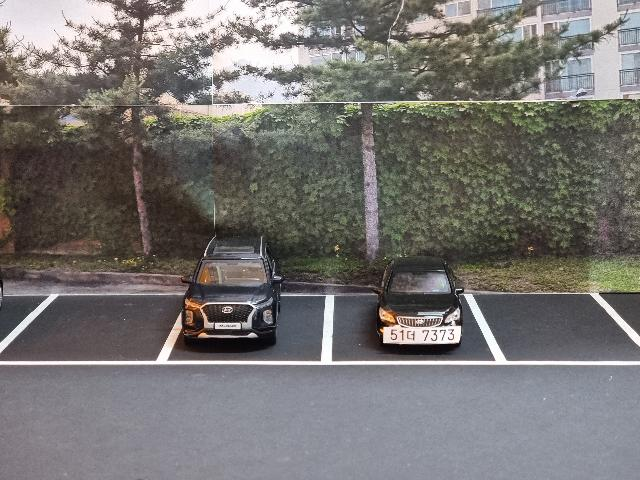empty: (0, 290, 188, 370), (462, 290, 640, 364)
occupied: (182, 230, 290, 346), (365, 250, 469, 350)
